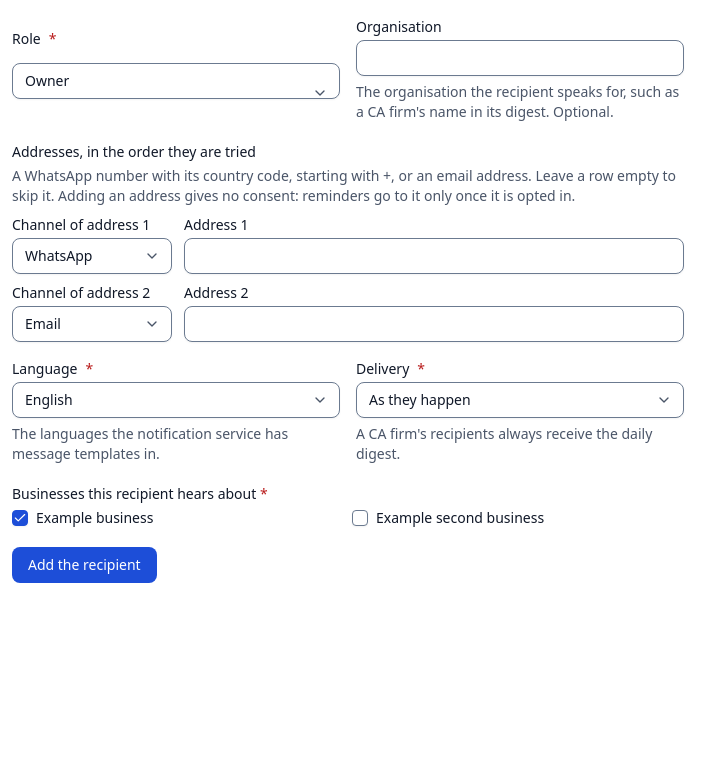
Test: RecipientForm › shows the service's problem and a form-level refusal
Click the button "Add the recipient" at (84, 565), box [12, 547, 157, 583]
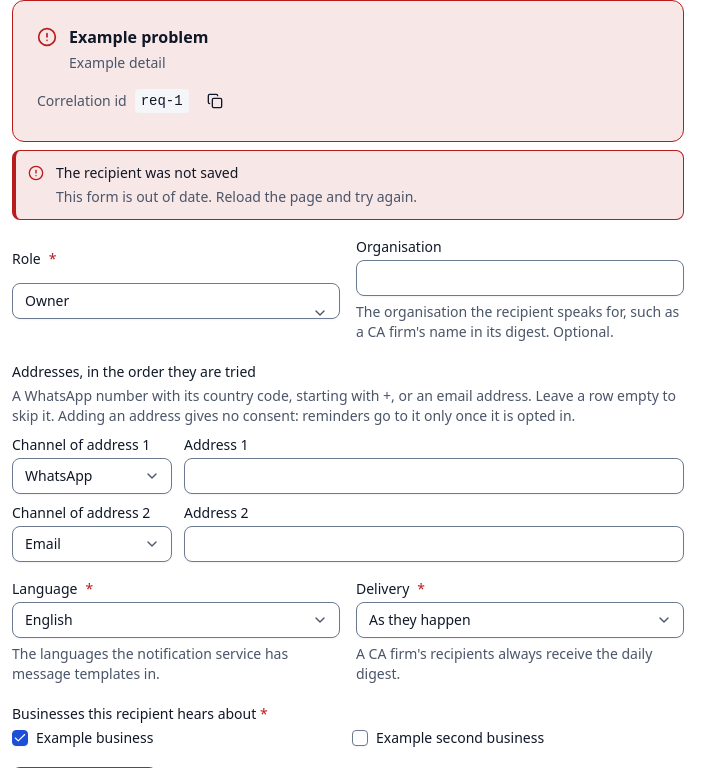
Now the text "Example problem" is shown, box [69, 26, 208, 48]
Now the text "Example detail" is shown, box [69, 53, 166, 72]
Now the text "req-1" is shown, box [135, 89, 189, 113]
